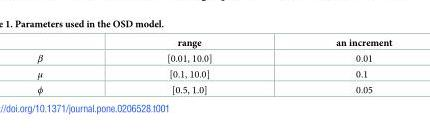table: (36, 37, 391, 95)
table column: (104, 37, 273, 95), (273, 37, 391, 95), (36, 37, 104, 95)
table column header: (36, 37, 391, 49)
table row: (36, 49, 391, 65), (36, 65, 391, 81), (36, 81, 391, 95), (36, 37, 391, 49)
